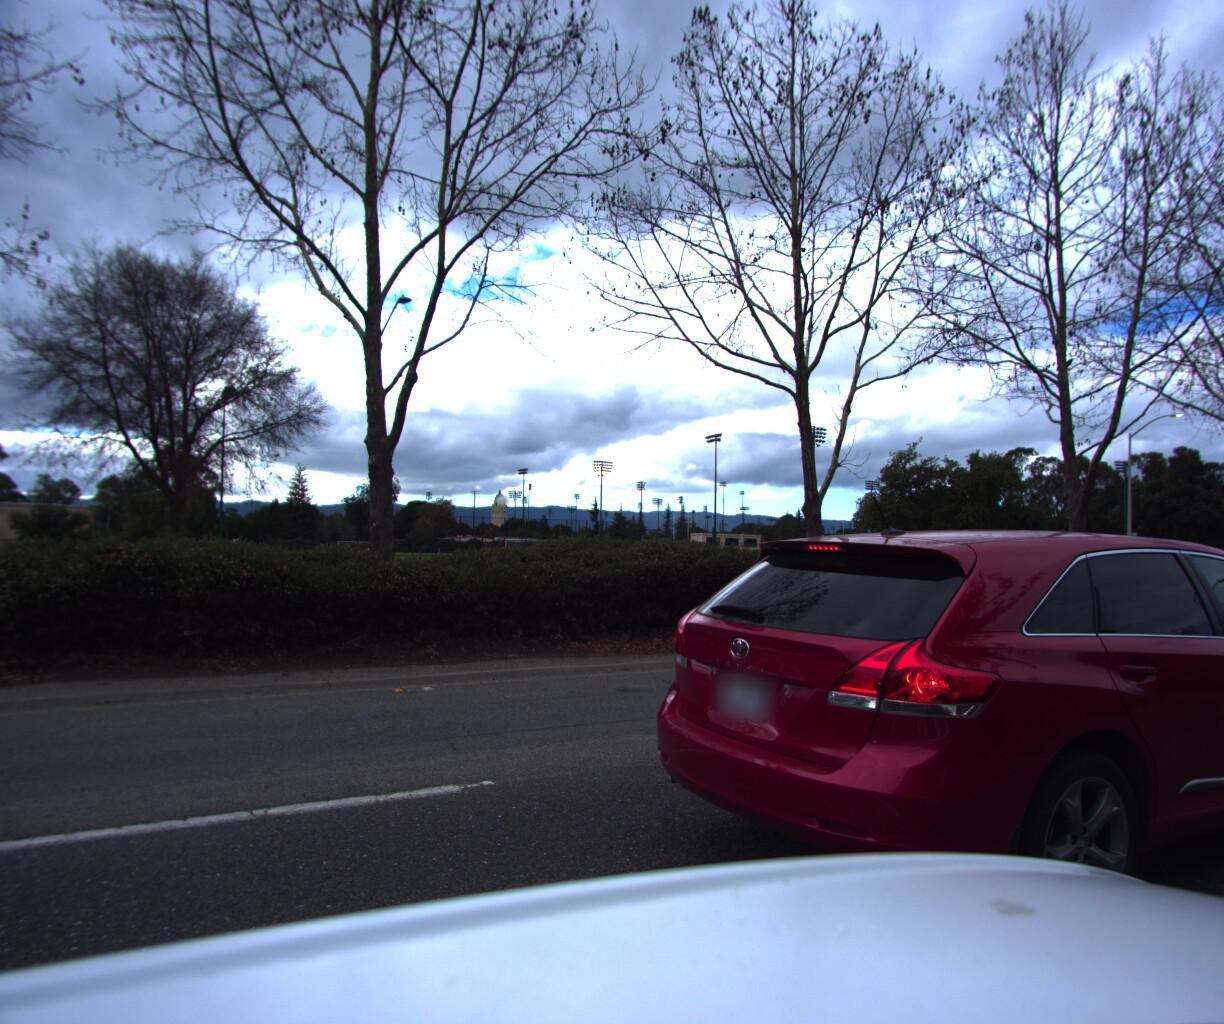car: (595, 508, 1224, 1024)
